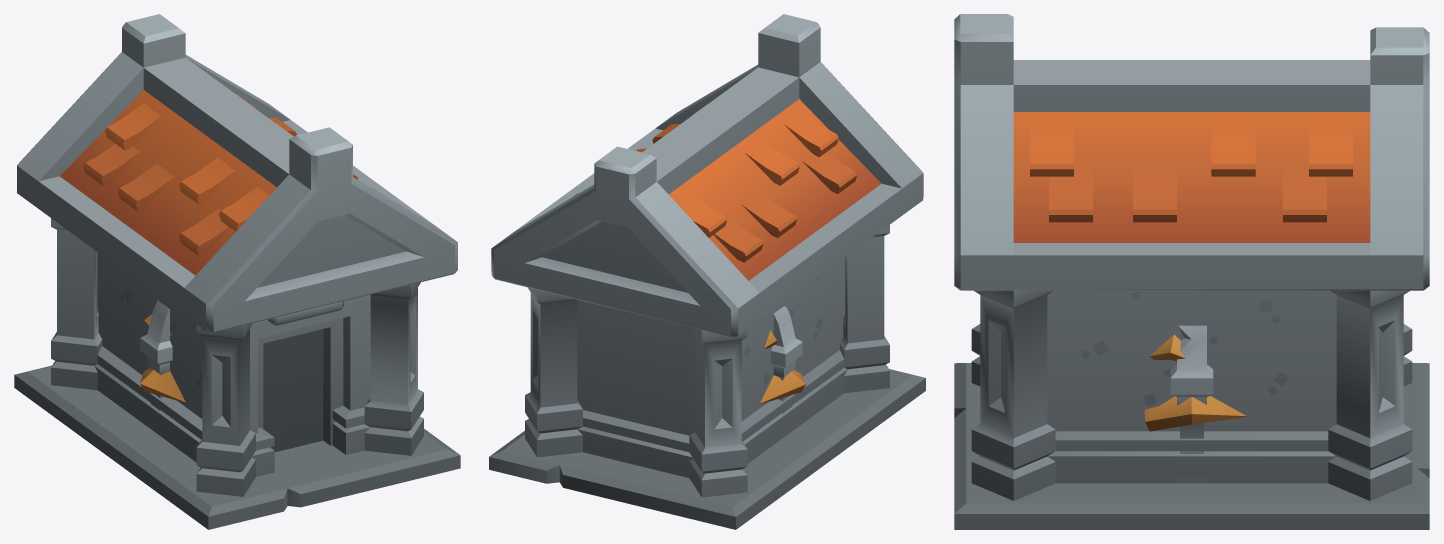
The model's file is halloween.glb.
The picture shows the model from 3 angles, left to right: view 1: azimuth 30°, elevation 25°; view 2: azimuth 150°, elevation 25°; view 3: azimuth 270°, elevation 25°; orthographic projection. The views are drawn at different scales.
Visible parts, largest first — view 1: crypt, arch, tree_pine_yellow_large; view 2: crypt, arch, tree_pine_yellow_large; view 3: crypt, arch, tree_pine_yellow_large.
Part boxes in pixels (box(x1,y1,x2,y2)): crypt: box(14, 14, 460, 529); arch: box(140, 300, 172, 435); tree_pine_yellow_large: box(140, 314, 185, 402); crypt: box(489, 14, 925, 529); arch: box(771, 306, 802, 436); tree_pine_yellow_large: box(760, 325, 806, 404); crypt: box(954, 14, 1429, 529); arch: box(1170, 325, 1213, 483); tree_pine_yellow_large: box(1144, 334, 1246, 431).
Bounding box in the file's own units: 6 × 8.55 × 8.
1 material, 1 textured.
